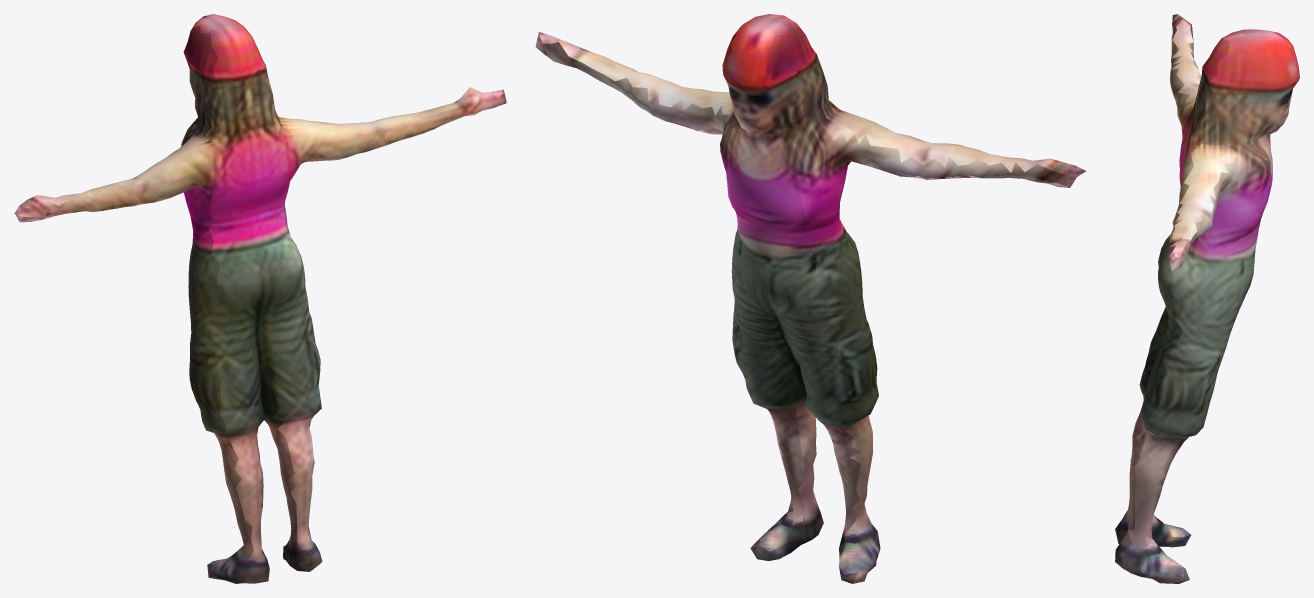
The picture shows the model from 3 angles, left to right: view 1: azimuth 30°, elevation 25°; view 2: azimuth 150°, elevation 25°; view 3: azimuth 270°, elevation 25°; orthographic projection. The views are drawn at different scales.
Visible parts, largest first — view 1: world; view 2: world; view 3: world.
Part boxes in pixels (x1,y1,x2,y2): world: [14, 14, 506, 583]; world: [535, 14, 1085, 583]; world: [1115, 14, 1299, 583].
Bounding box in the file's own units: 0.9924 × 0.9949 × 0.3141.
Materials: 1 (1 with a texture image).
